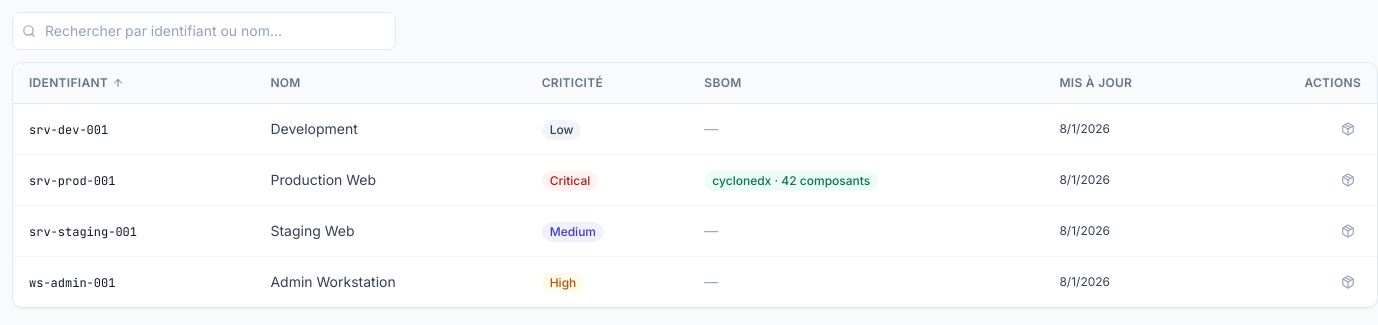
Test: AssetsTable › filtre sur asset_id et sur le nom
Type "staging" into the field named "Rechercher un asset" at (204, 31), box [12, 12, 396, 50]
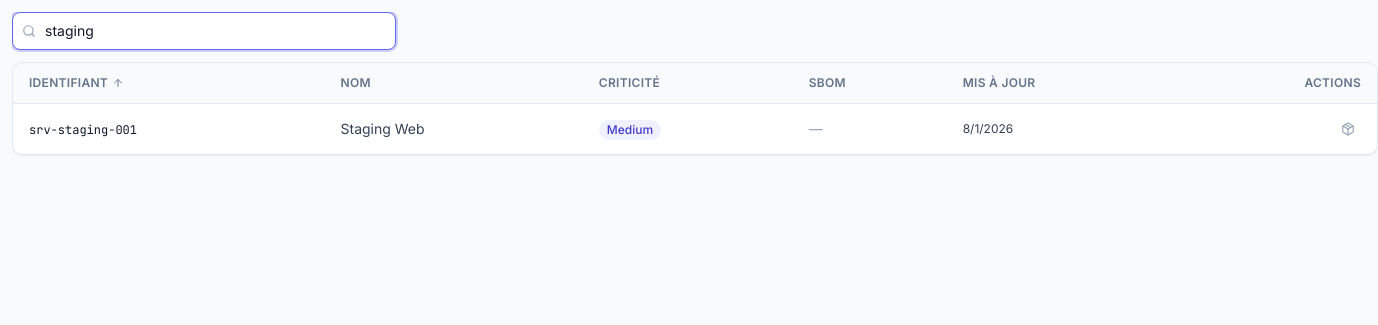
Expected: the text "srv-staging-001" is shown, [29, 122, 137, 138]
Expected: the text "srv-prod-001" is gone
Replace the text in the field named "Rechercher un asset" with "Admin Workstation" at (204, 31), box [12, 12, 396, 50]
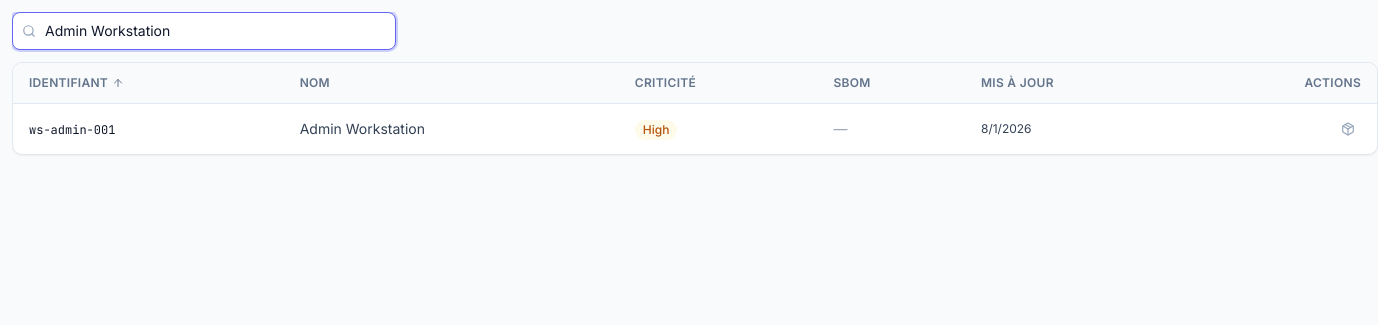
Expected: the text "ws-admin-001" is shown, [29, 122, 115, 138]
Expected: the text "srv-dev-001" is gone
